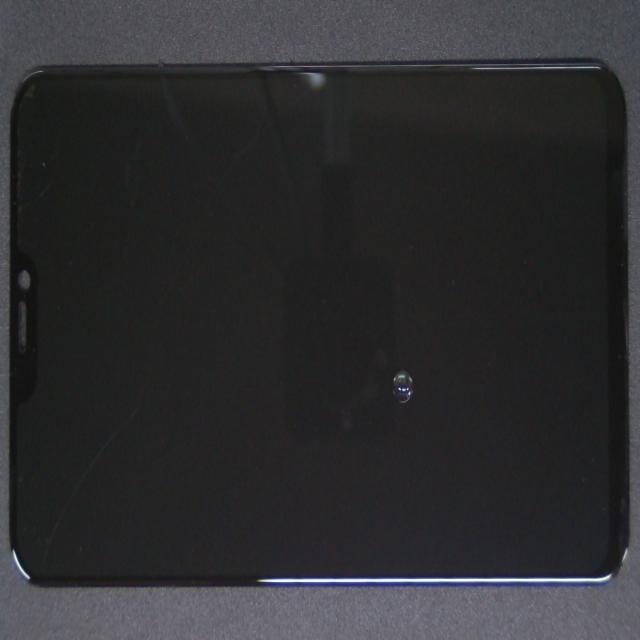oil: (200, 155, 591, 560)
